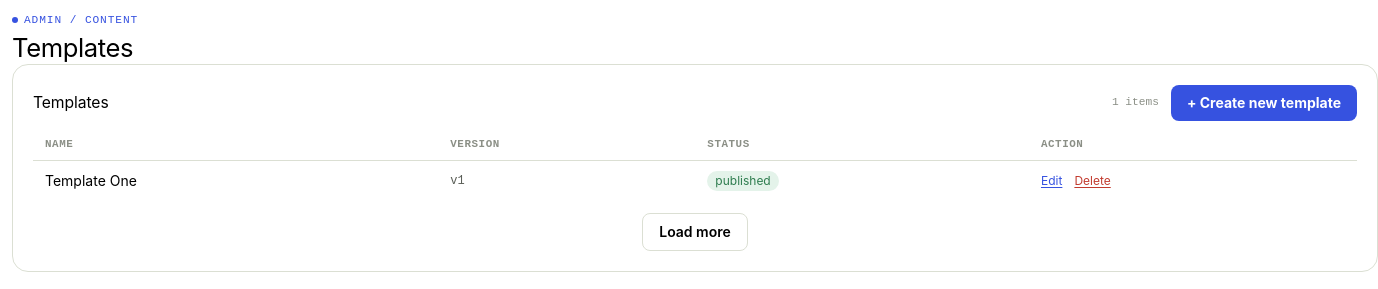
Test: TemplatesAdminPage › loads the next page of templates via Load more
Check: the text "Template One" is shown, box [33,160,438,201]
Check: the text "Template Two" is not shown
Click the button "Load more" at (695, 232), box [642,213,748,251]
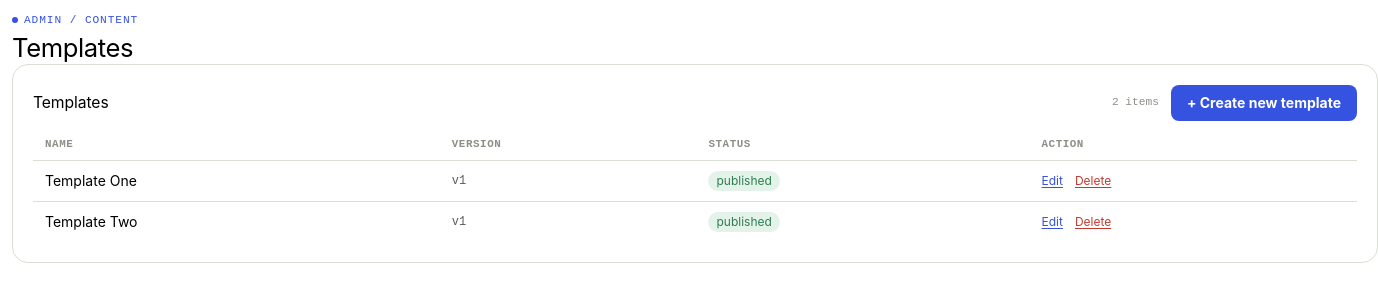
Check: the text "Template Two" is shown, box [33,202,440,242]
Check: the button "Load more" is gone
